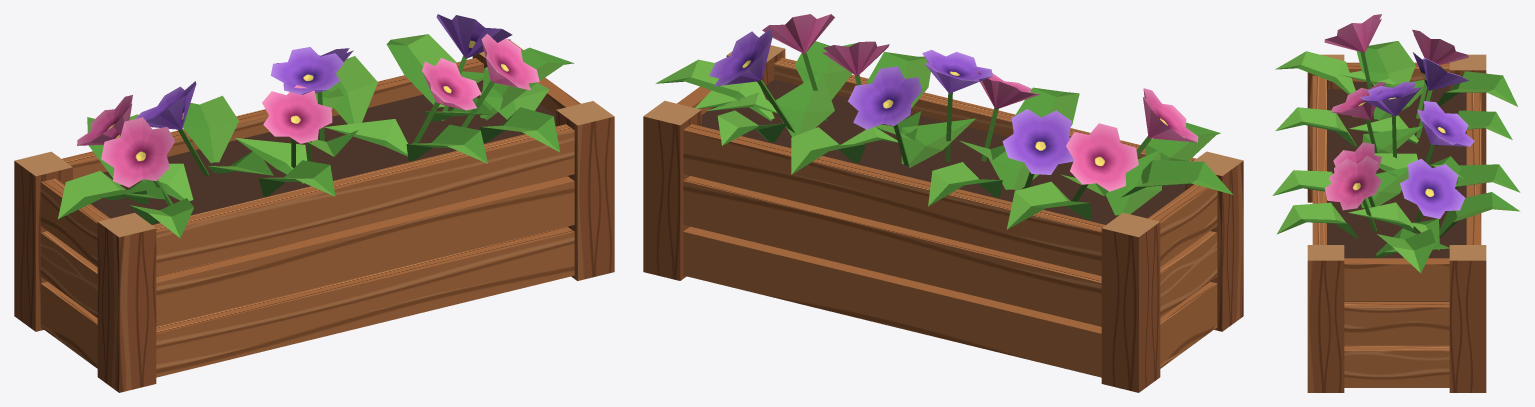
The model's file is FMS_Deco_Planter_Box.fbx.
3 views of the same model, side by side, from view 1: azimuth 30°, elevation 25°; view 2: azimuth 150°, elevation 25°; view 3: azimuth 270°, elevation 25° (orthographic). The views are drawn at different scales.
Parts seen in each view (by area): view 1: item_decor_planter_box; view 2: item_decor_planter_box; view 3: item_decor_planter_box.
Boxes of the visible parts, x1,y1,x2,y2 form: item_decor_planter_box: (14,14,614,392); item_decor_planter_box: (643,14,1243,392); item_decor_planter_box: (1272,14,1520,392).
Size of the model in its own units: 0.6635 by 0.2742 by 0.3063.
